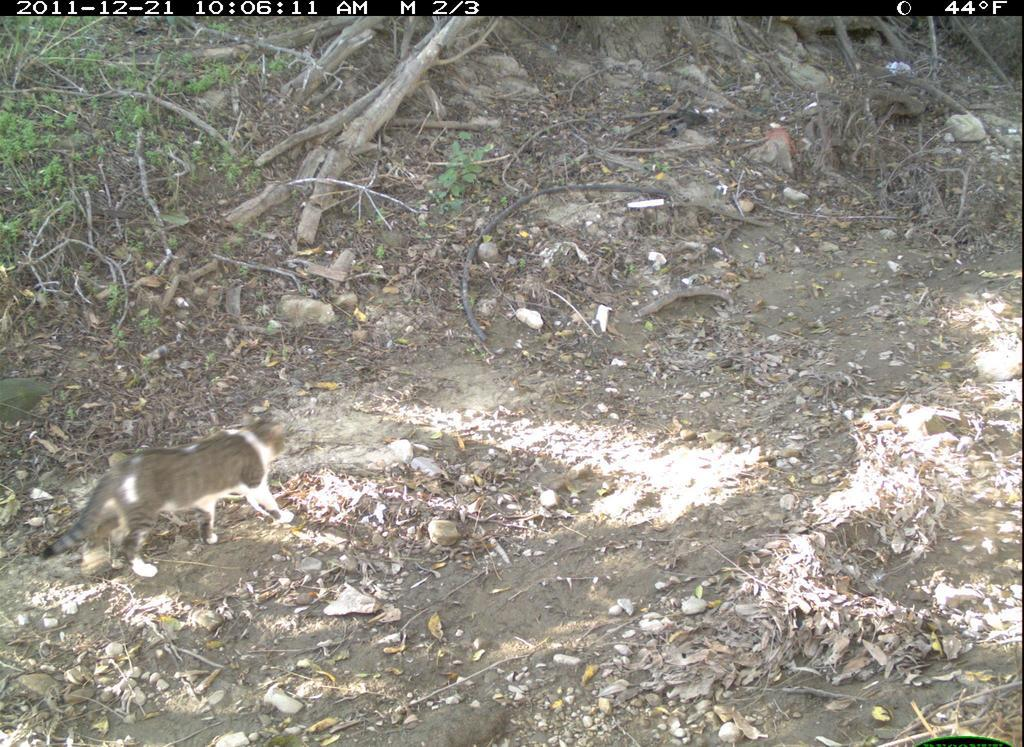cat: (30, 408, 294, 594)
